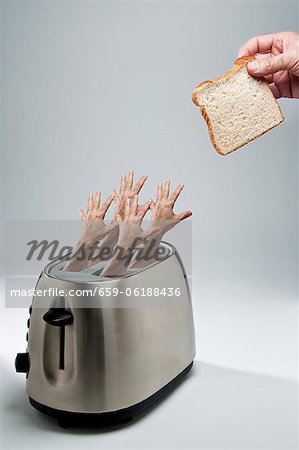slice of bread: (189, 44, 282, 169)
